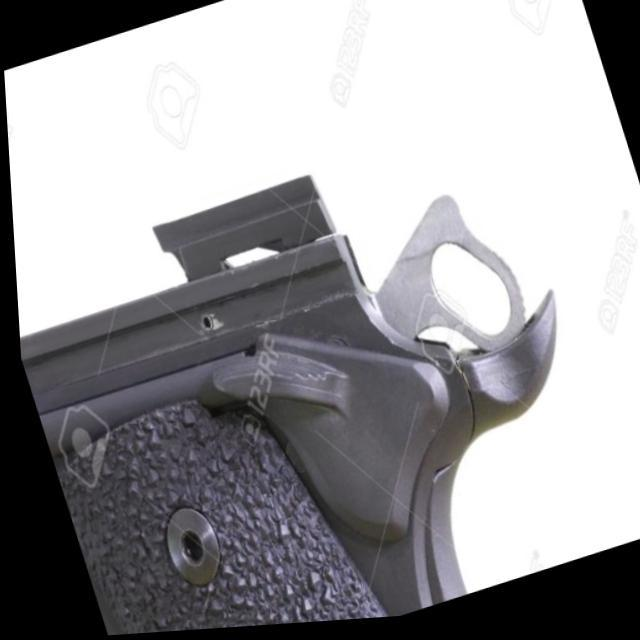weapon: (7, 113, 626, 640)
